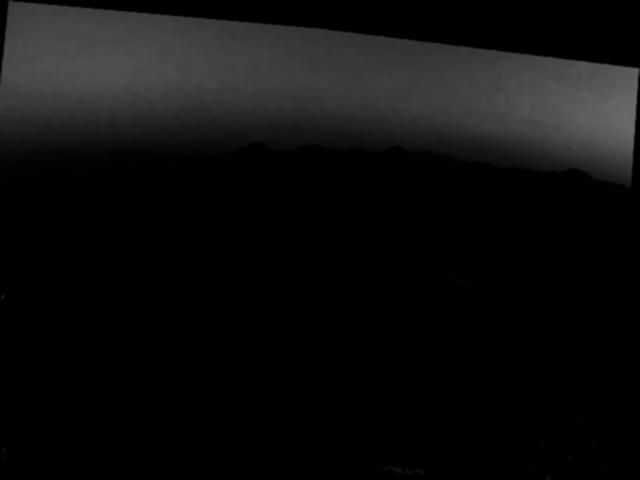hedef: (379, 446, 434, 480), (377, 394, 423, 428)
